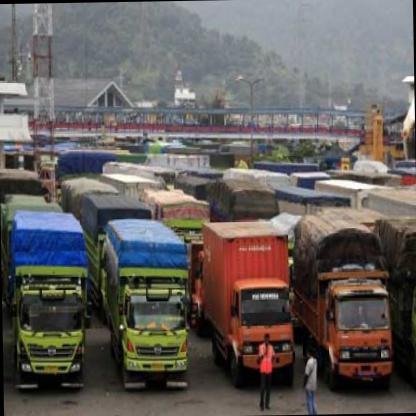truck: (15, 278, 88, 399), (326, 277, 395, 397), (123, 282, 194, 398), (231, 278, 299, 392)
